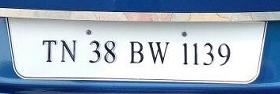1: (190, 39, 200, 66), (181, 41, 188, 66)
3: (87, 37, 102, 64), (202, 41, 215, 66)
8: (101, 39, 118, 64)
9: (216, 39, 232, 68)
B: (127, 39, 145, 64)
N: (59, 38, 78, 62)
T: (40, 38, 56, 63)
W: (145, 40, 169, 65)
